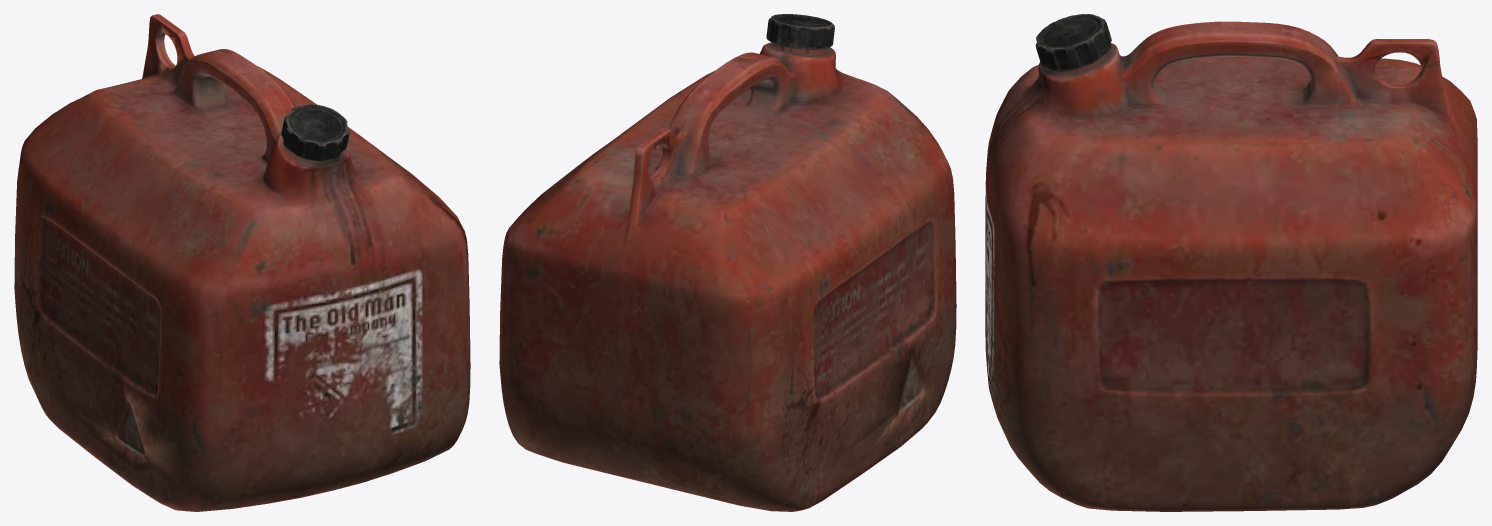
Rendered from plastic_jerrycan.glb.
3 renders of one model, left to right at view 1: azimuth 30°, elevation 25°; view 2: azimuth 150°, elevation 25°; view 3: azimuth 270°, elevation 25°, orthographic. The views are drawn at different scales.
Visible parts, largest first — view 1: plastic_jerrycan; view 2: plastic_jerrycan; view 3: plastic_jerrycan.
Part boxes in pixels (x1,y1,x2,y2): plastic_jerrycan: (14,14,470,511); plastic_jerrycan: (499,14,956,511); plastic_jerrycan: (985,14,1477,511).
Size of the model in its own units: 0.268 by 0.3184 by 0.3408.
Materials: 1 (1 with a texture image).
